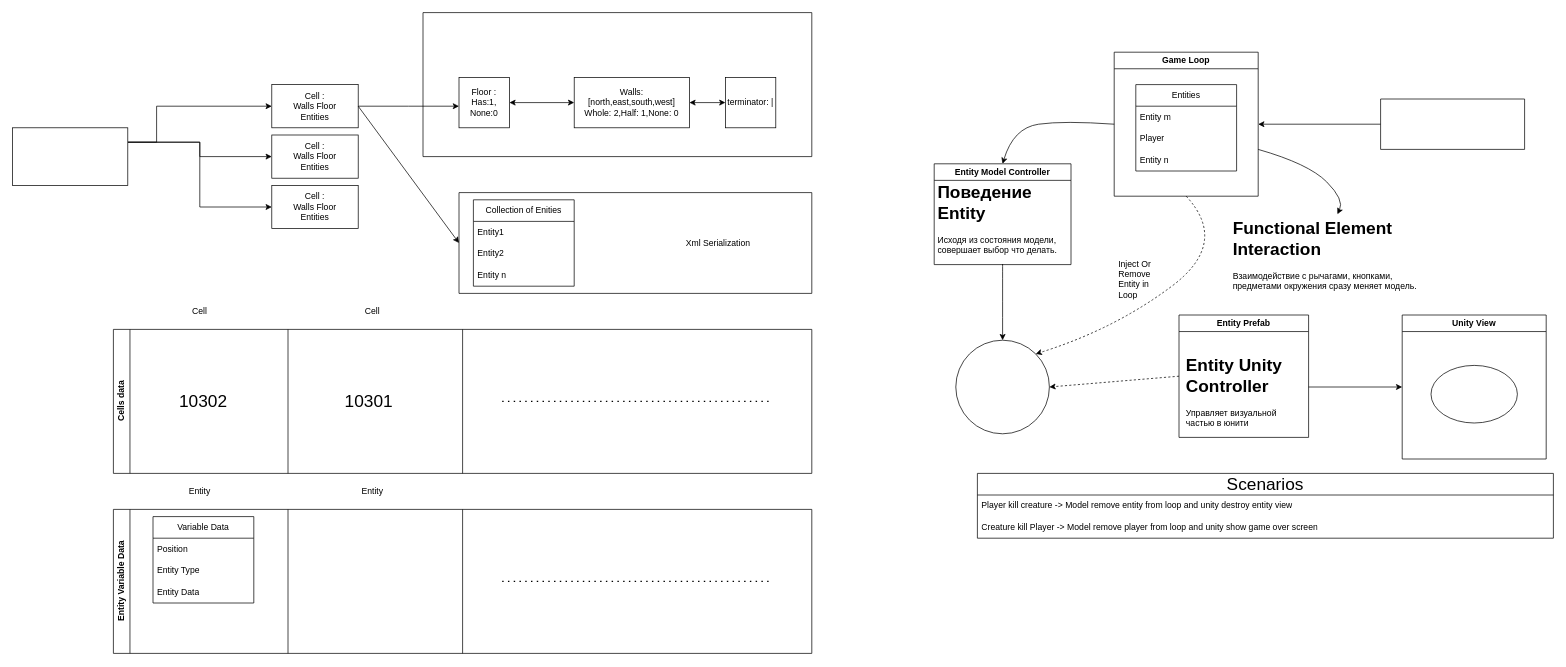
Some shapes in this 1566 by 667 pixel diagram are drawn without their labels. The centre of each missing label's shape, as x and y in pixels:
Binary Serialization for every cell: [617,84]
LevelModel: [70,156]
Model: [1002,386]
Scene: [1473,394]
User Input: [1452,123]
